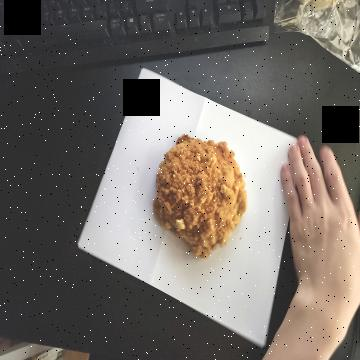soboru_bread: (154, 136, 248, 262)
